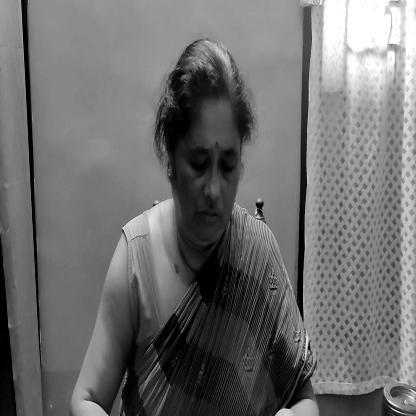Distracted: (158, 46, 252, 252)
